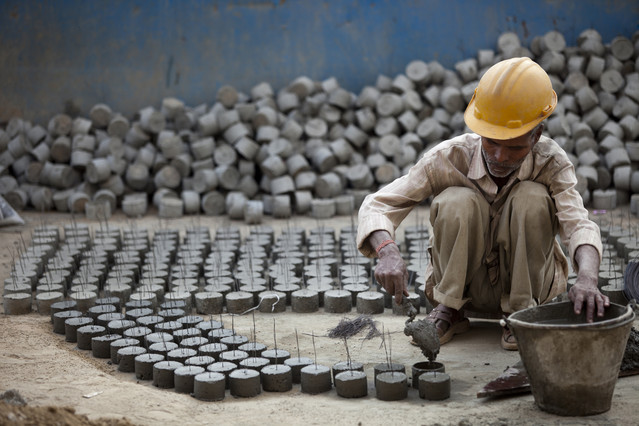NoJacket: (432, 54, 563, 289)
